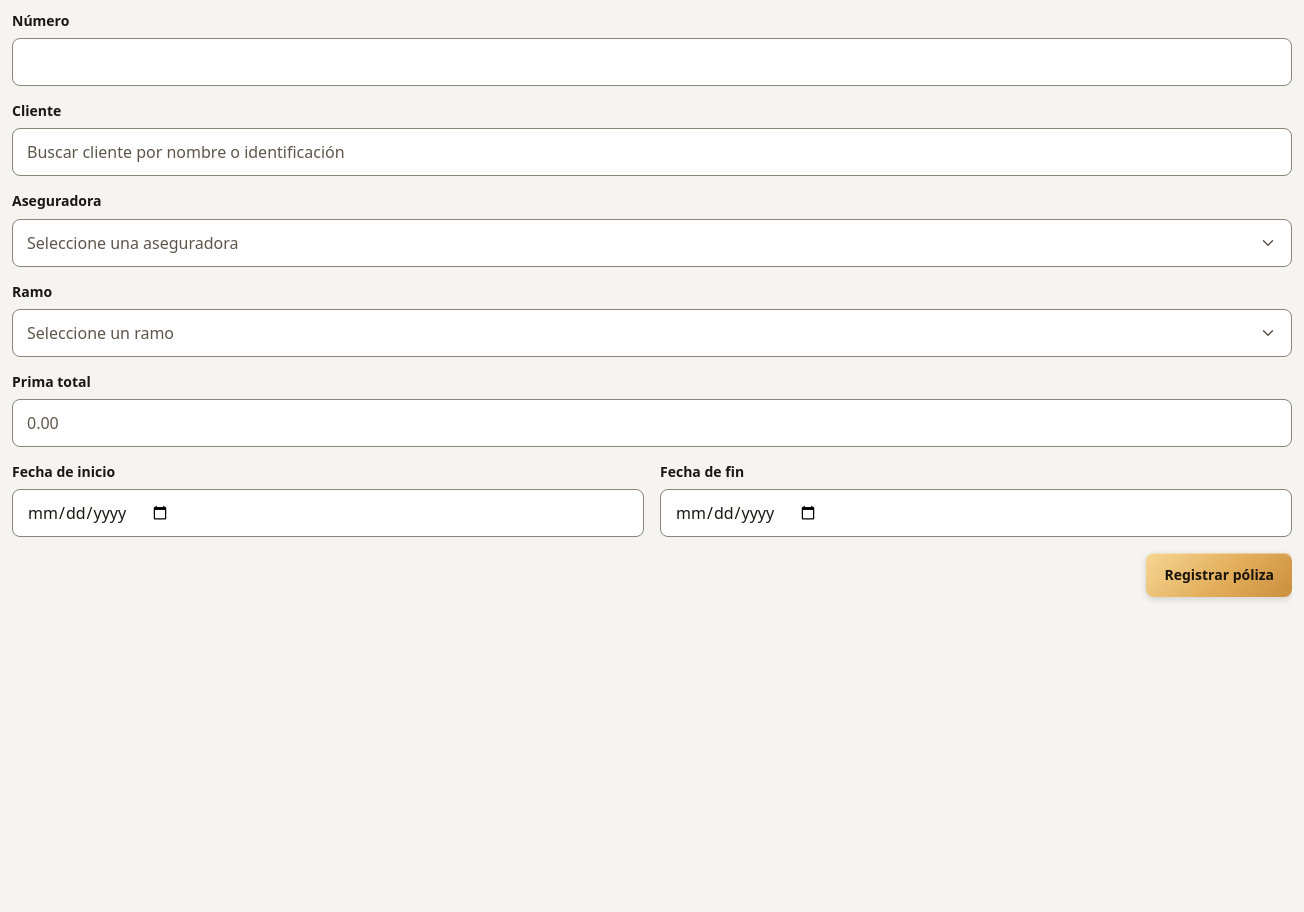
Test: FormularioPoliza › valida prima y fechas con el esquema compartido
This screenshot has width=1304, height=912.
Type "POL-0003" into the field labelled "Número". click: (652, 62)
box: [12,38,1292,86]
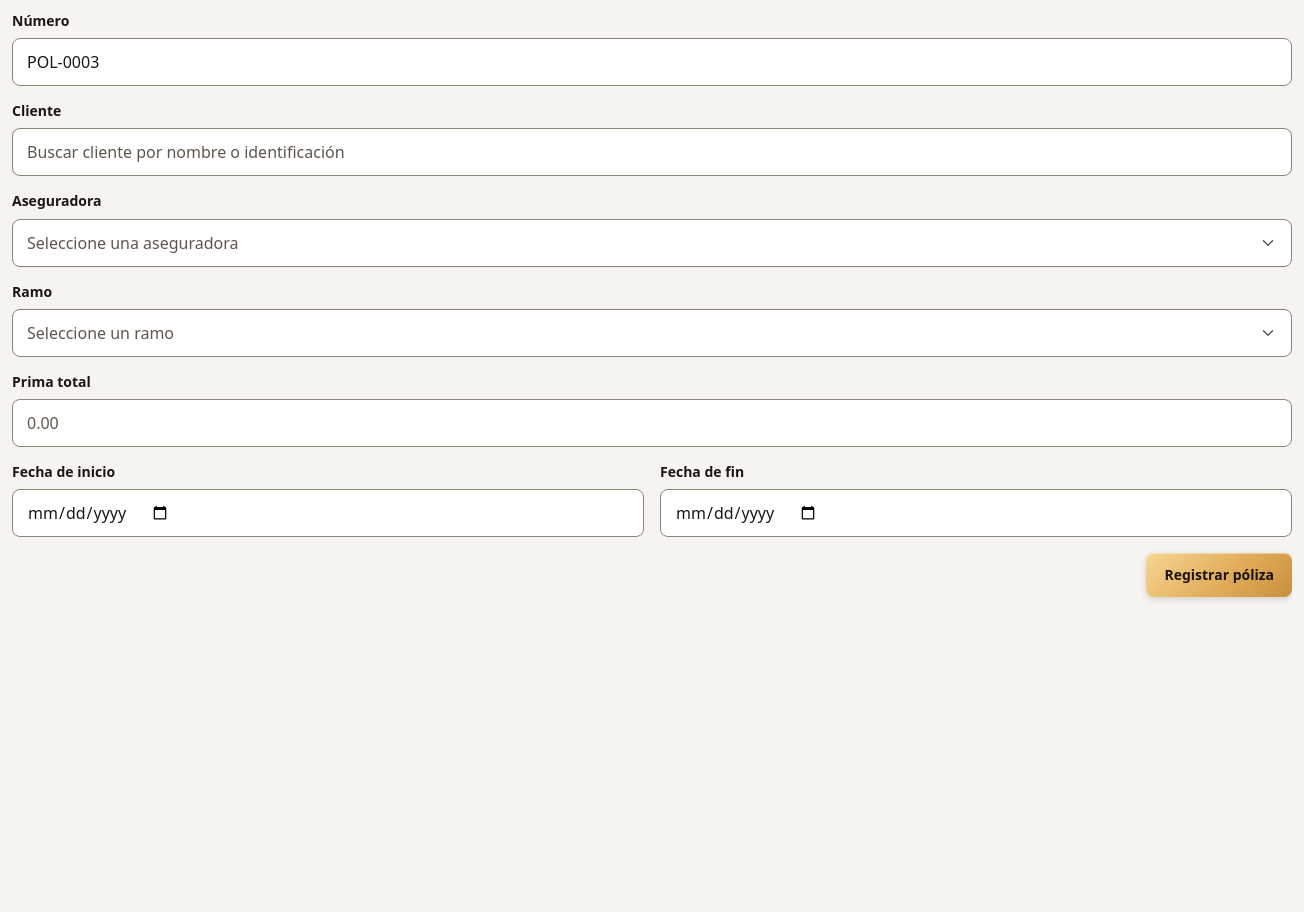
Type "0" into the field labelled "Prima total". click: (652, 423)
box: [12,399,1292,447]
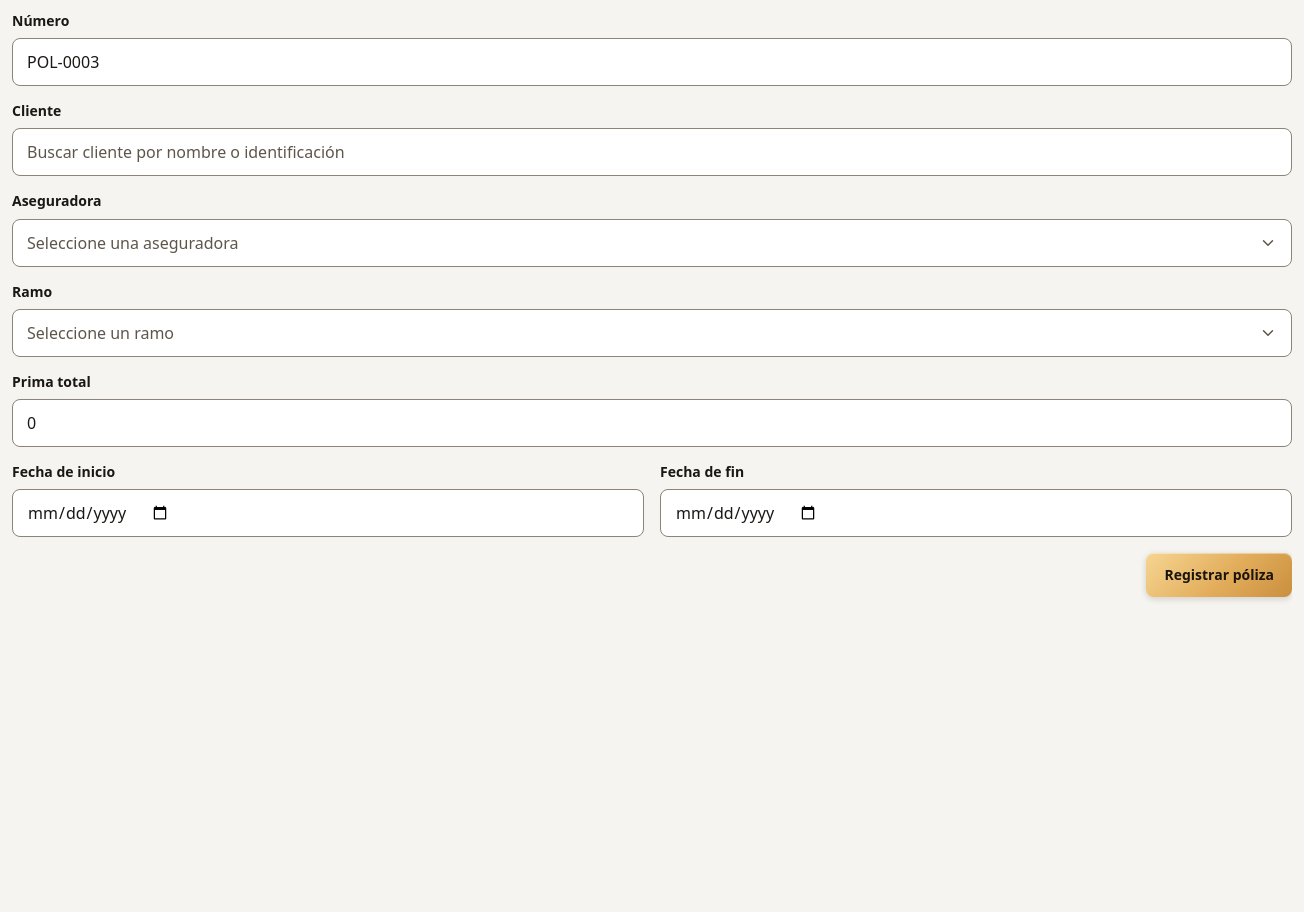
Type "2026-02-01" into the date field labelled "Fecha de inicio". click: (328, 513)
box: [12,489,644,537]
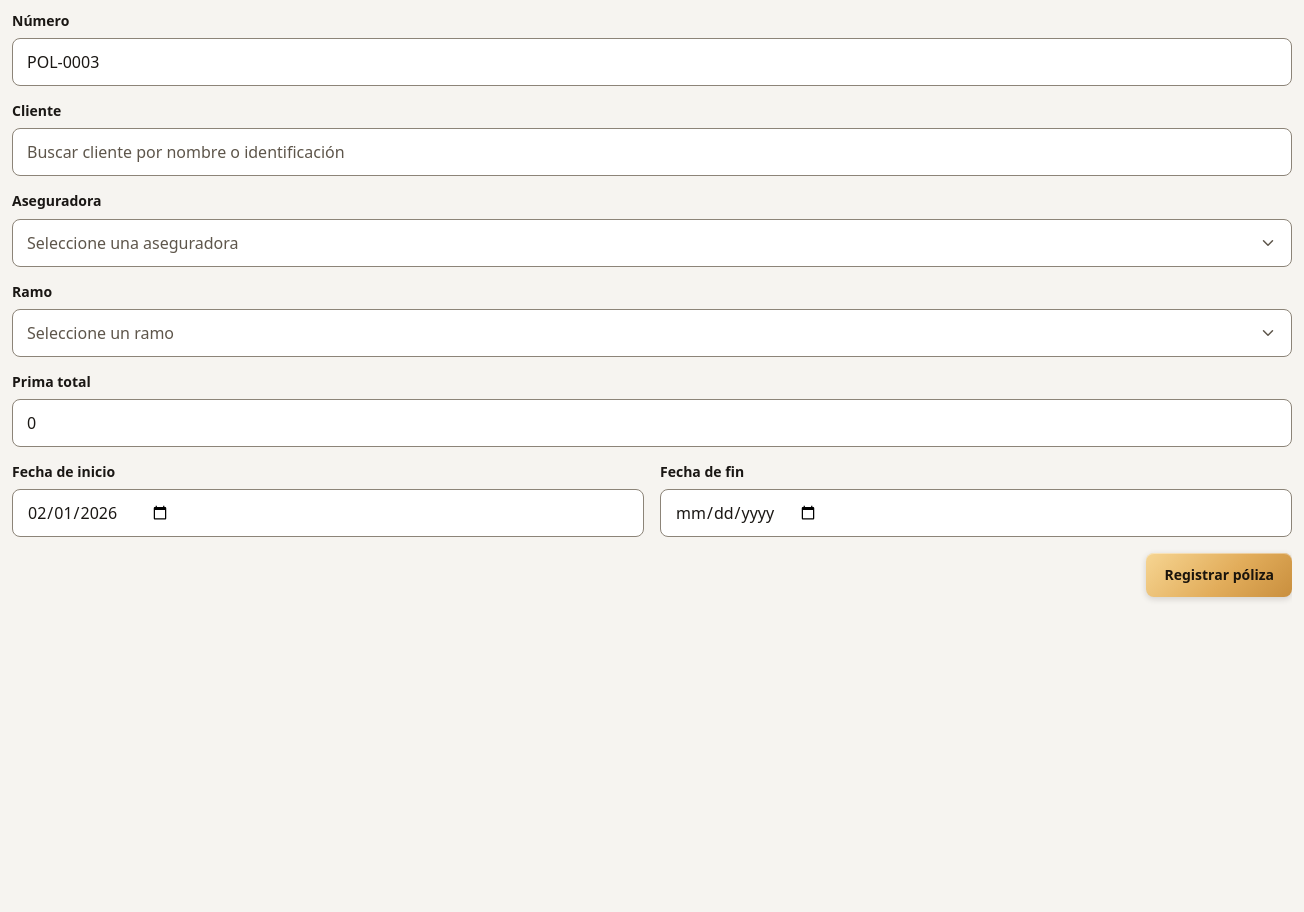
Type "2026-02-01" into the date field labelled "Fecha de fin". click: (976, 513)
box: [660,489,1292,537]
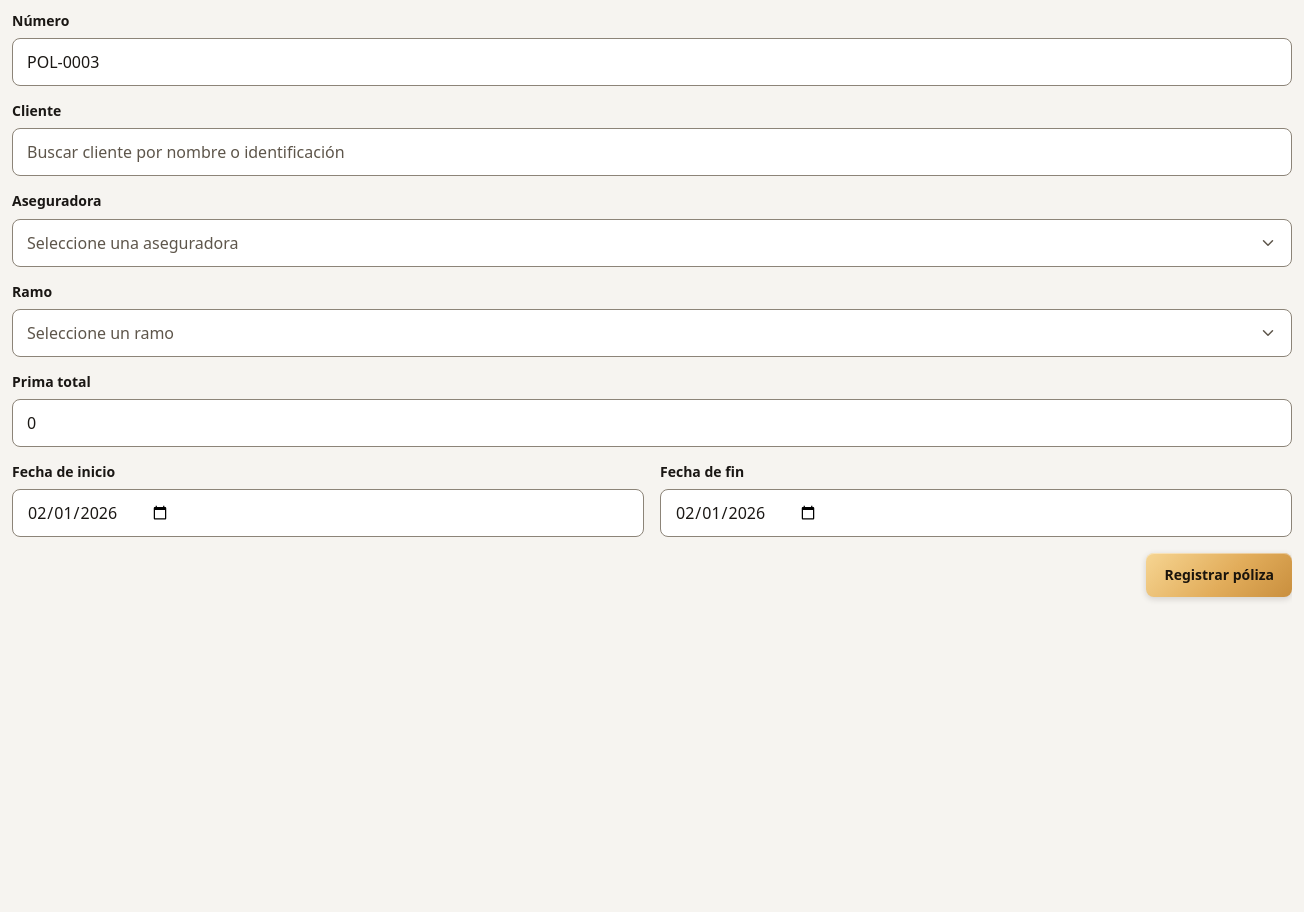
Click the button with test id "boton-guardar-poliza". click: (1219, 575)
box: [1146,553,1292,597]
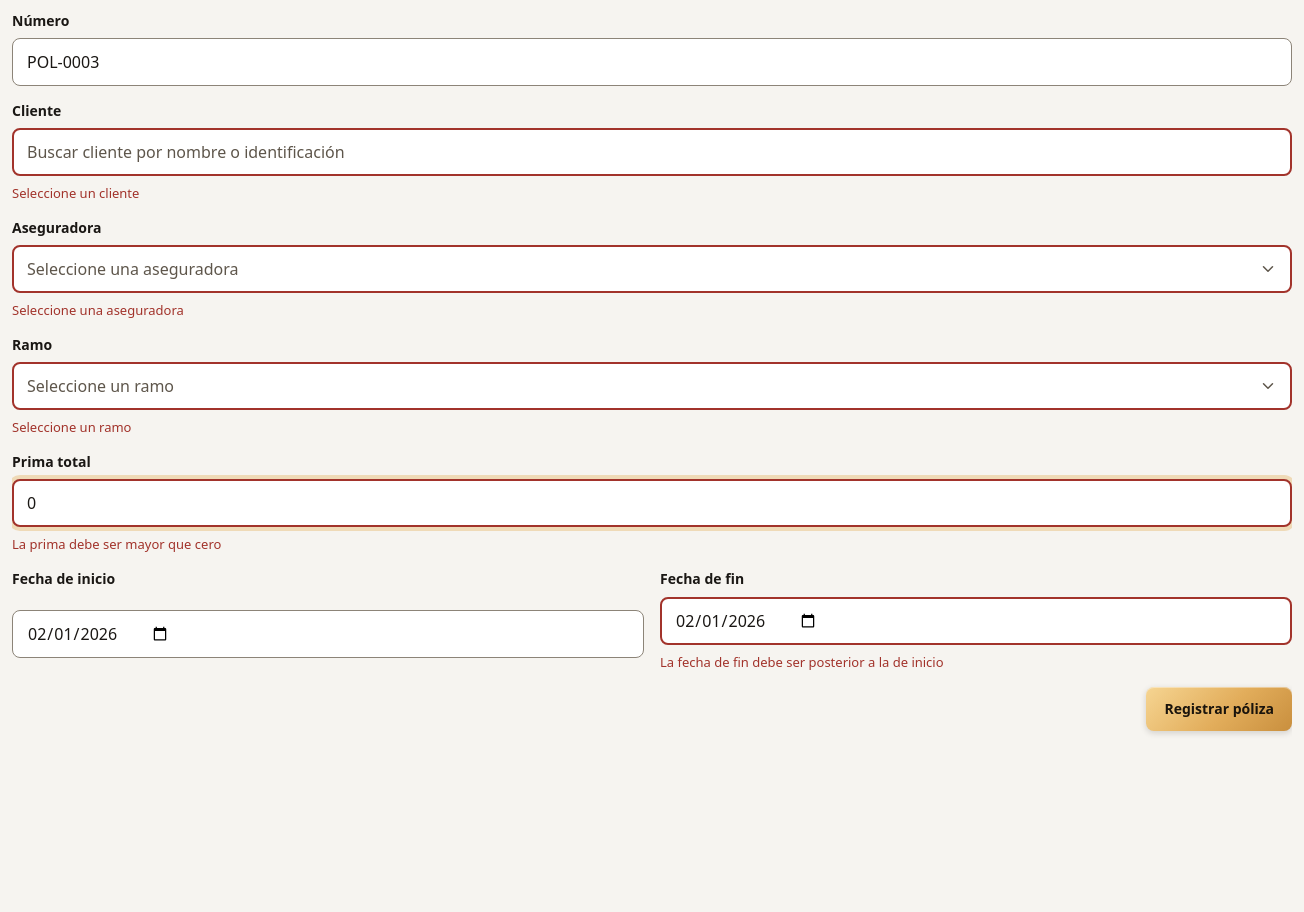
Now the text "La prima debe ser mayor que cero" is shown, box [12,536,221,554]
Now the text "La fecha de fin debe ser posterior a la de inicio" is shown, box [660,652,944,670]
Now the text "Seleccione un cliente" is shown, box [12,184,139,202]
